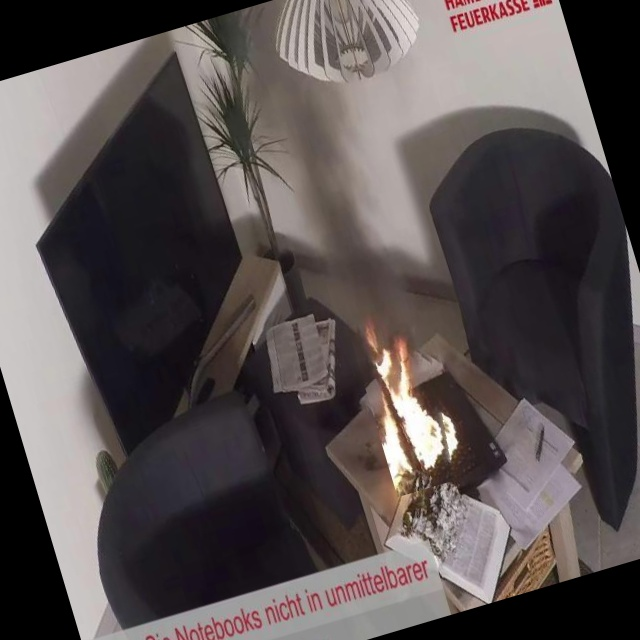fire: (304, 297, 496, 523)
